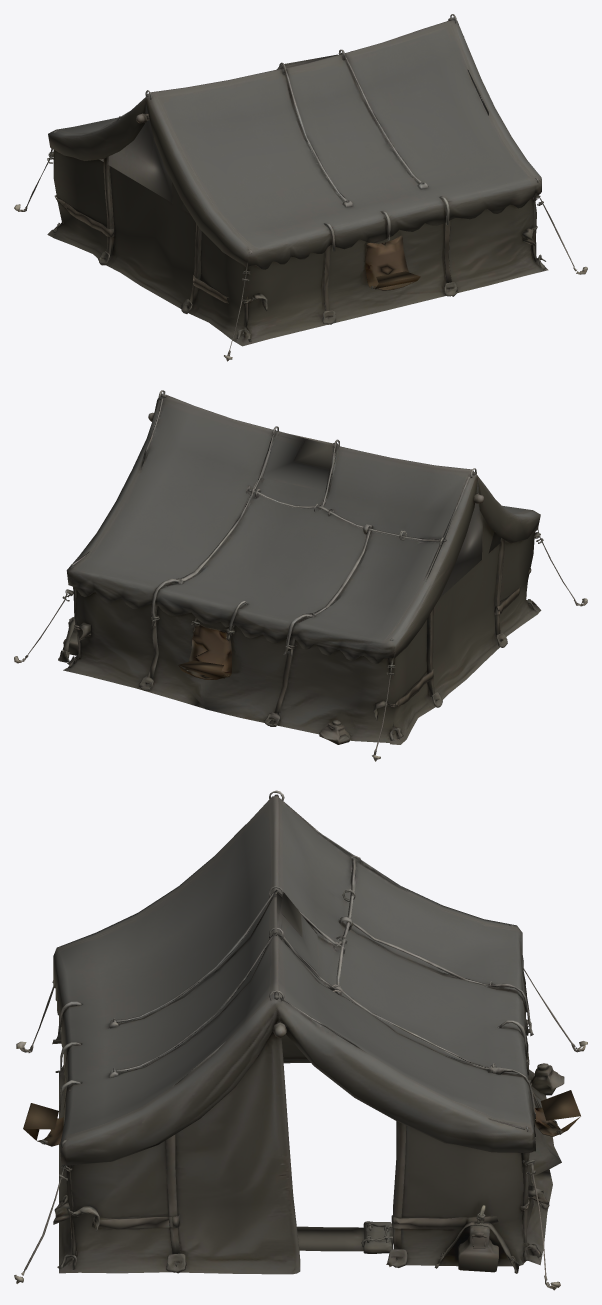
Rendered from ch4_meridian_field_tent_LOD0.glb.
3 renders of one model, top to bottom at view 1: azimuth 30°, elevation 25°; view 2: azimuth 150°, elevation 25°; view 3: azimuth 270°, elevation 25°, orthographic. The views are drawn at different scales.
Visible parts, largest first — view 1: tripo_node_1440f594-e552-42cb-9a64-4c4fdd637bb7; view 2: tripo_node_1440f594-e552-42cb-9a64-4c4fdd637bb7; view 3: tripo_node_1440f594-e552-42cb-9a64-4c4fdd637bb7.
Boxes of the visible parts, left/top/right/bottom form: tripo_node_1440f594-e552-42cb-9a64-4c4fdd637bb7: left=14, top=14, right=587, bottom=361; tripo_node_1440f594-e552-42cb-9a64-4c4fdd637bb7: left=14, top=390, right=587, bottom=761; tripo_node_1440f594-e552-42cb-9a64-4c4fdd637bb7: left=14, top=790, right=587, bottom=1290.
Bounding box in the file's own units: 0.998 × 0.5332 × 0.9941.
1 material, 1 textured.
